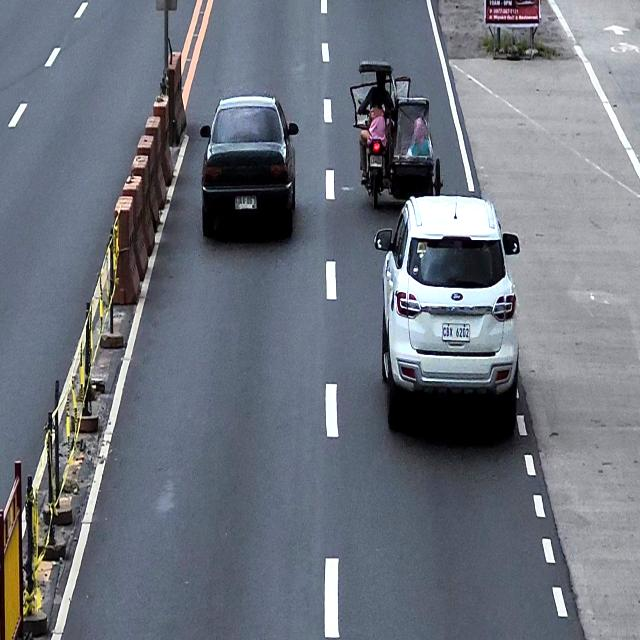Car: (374, 194, 520, 405), (199, 94, 299, 238)
License-Plate: (441, 320, 471, 343), (234, 193, 258, 212), (369, 153, 383, 168)
Tricycle: (354, 59, 444, 208)
